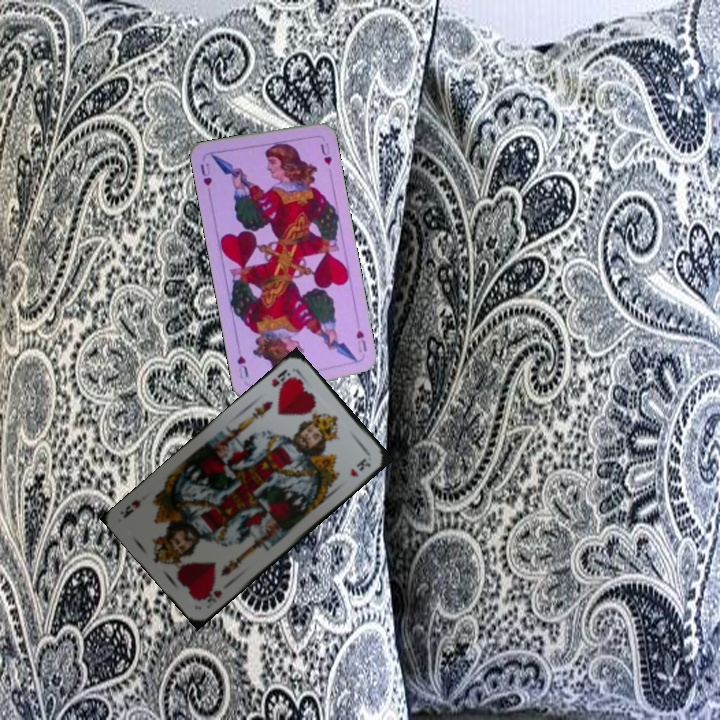HK: (267, 365, 298, 392), (195, 585, 225, 606)
HU: (196, 159, 214, 188), (352, 326, 369, 355)
